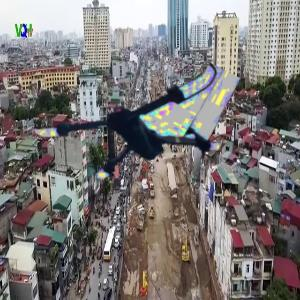drone: (40, 34, 223, 217)
